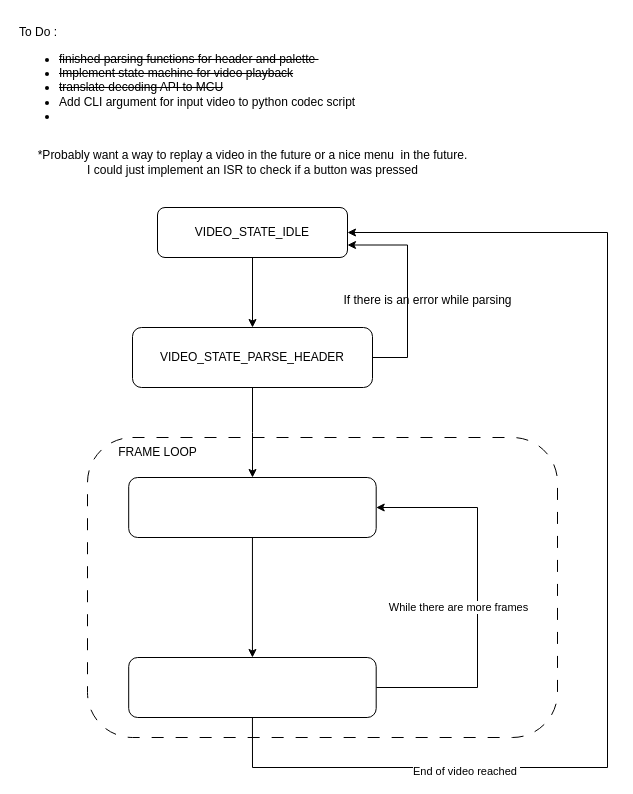
Image size: 633x794. Some labels were removed from this diagram. Here are the shapes that lost their labels. From the top down, the centre of each, then its label:
At (252,507): "VIDEO_STATE_DECODE_FRAME".
At (252,687): "VIDEO_STATE_TRANSMIT_FRAME".
